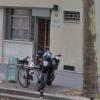Motorcycle: (30, 42, 69, 98)
